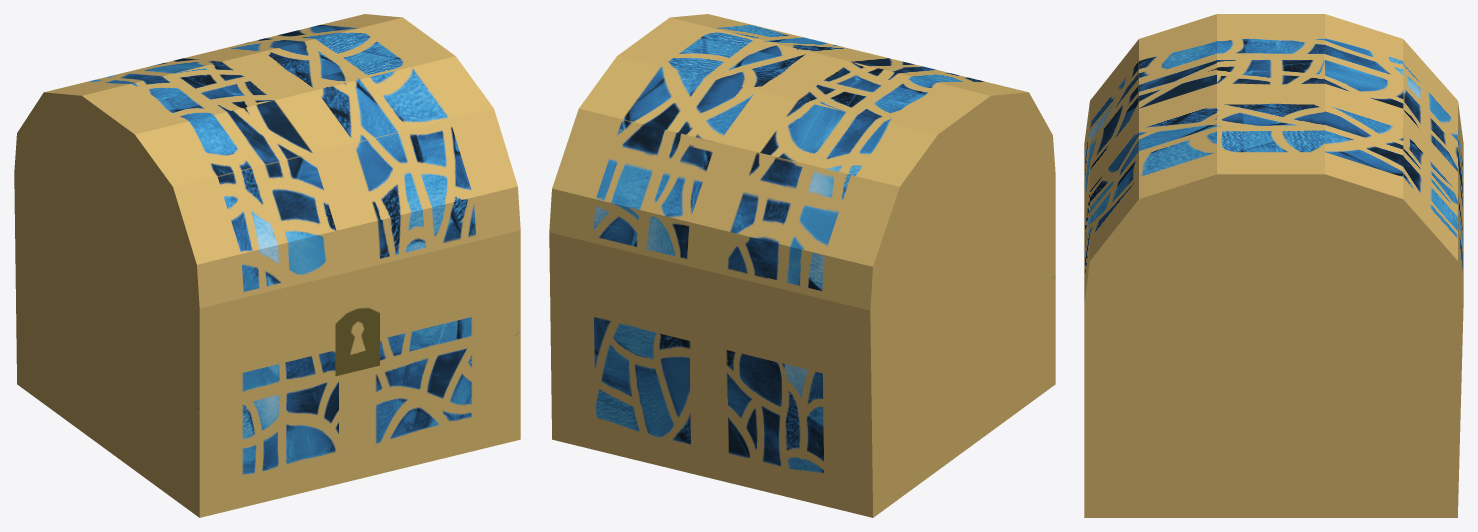
Rendered from chest01.glb.
3 views of the same model, side by side, from view 1: azimuth 30°, elevation 25°; view 2: azimuth 150°, elevation 25°; view 3: azimuth 270°, elevation 25° (orthographic). The views are drawn at different scales.
Visible parts, largest first — view 1: chest01; view 2: chest01; view 3: chest01.
Boxes of the visible parts, x1,y1,x2,y2 form: chest01: (14, 14, 520, 517); chest01: (549, 14, 1055, 517); chest01: (1084, 14, 1463, 517).
Size of the model in its own units: 1 by 1 by 1.
Materials: 1 (1 with a texture image).
